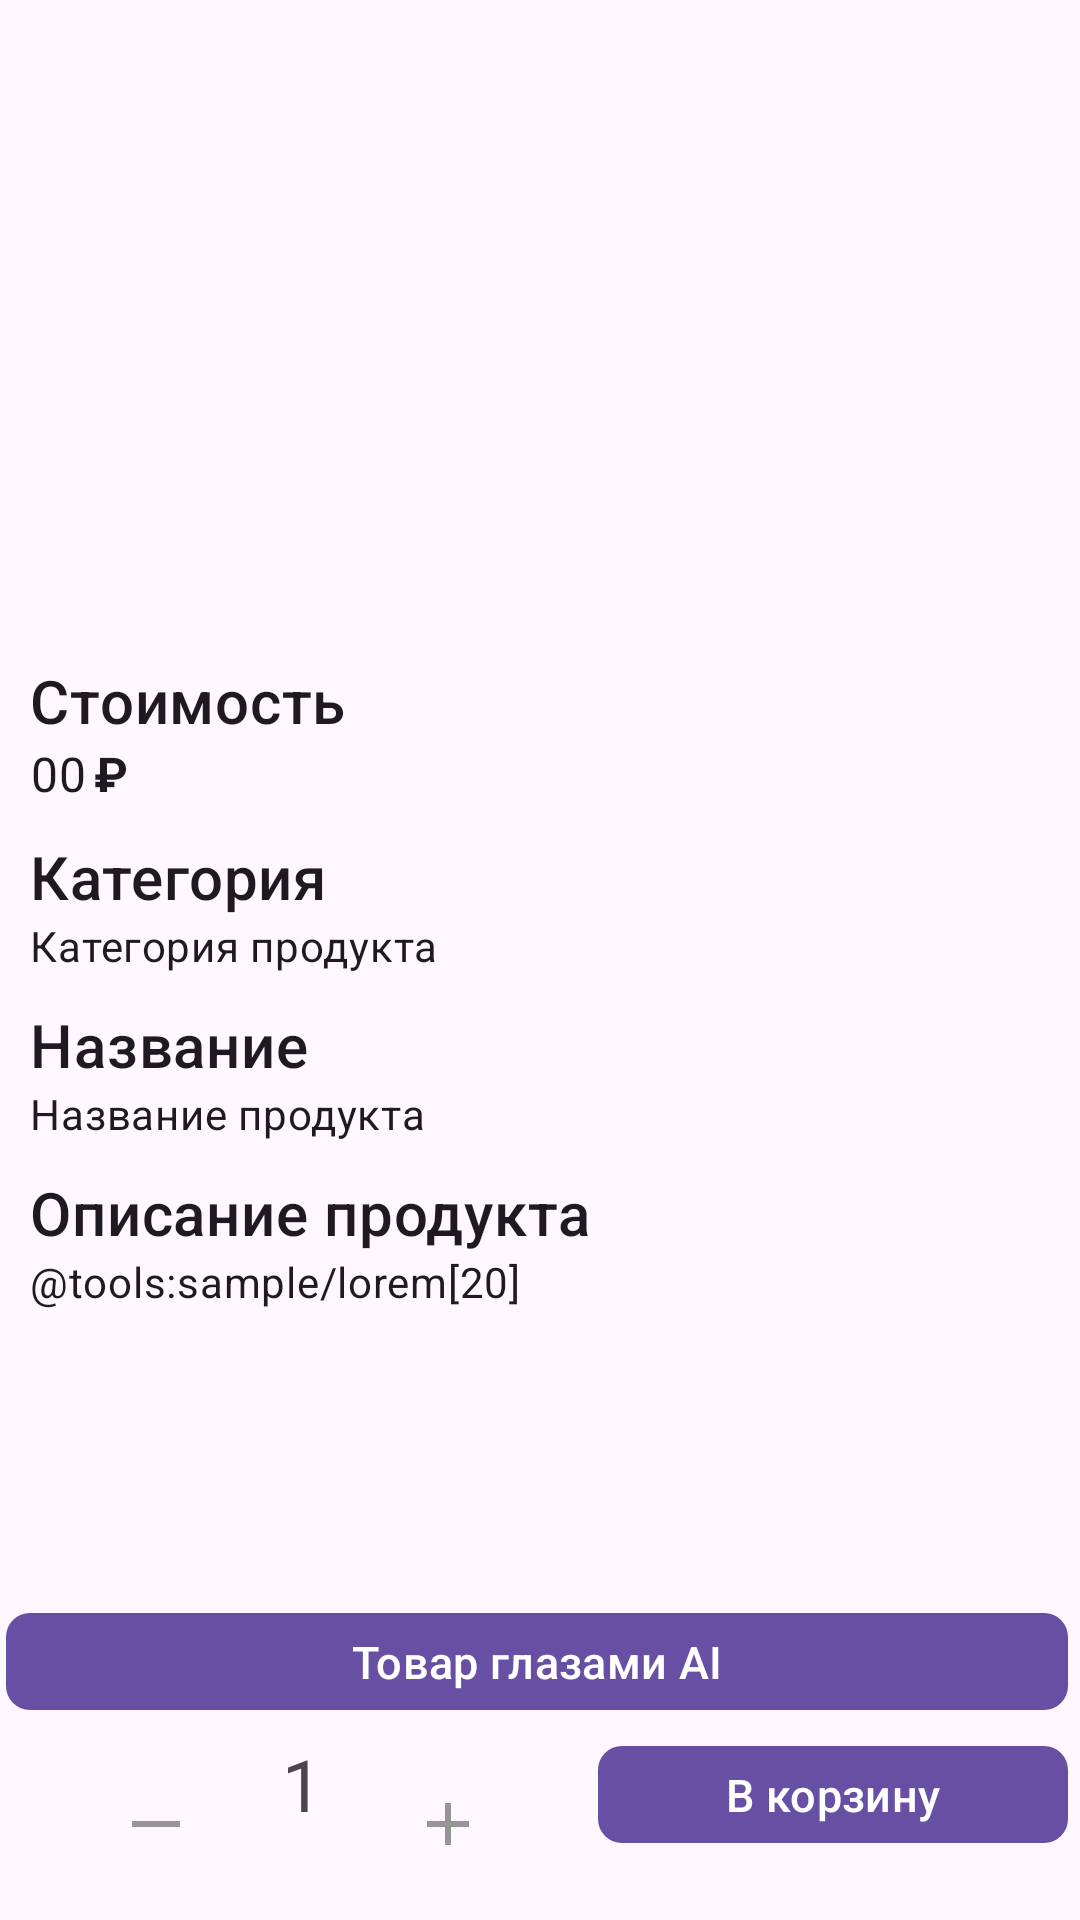

Where icons sit on this 1080px x 1920px app screen, as (x1, y1, x2, y2):
add: (427, 1803, 469, 1845)
